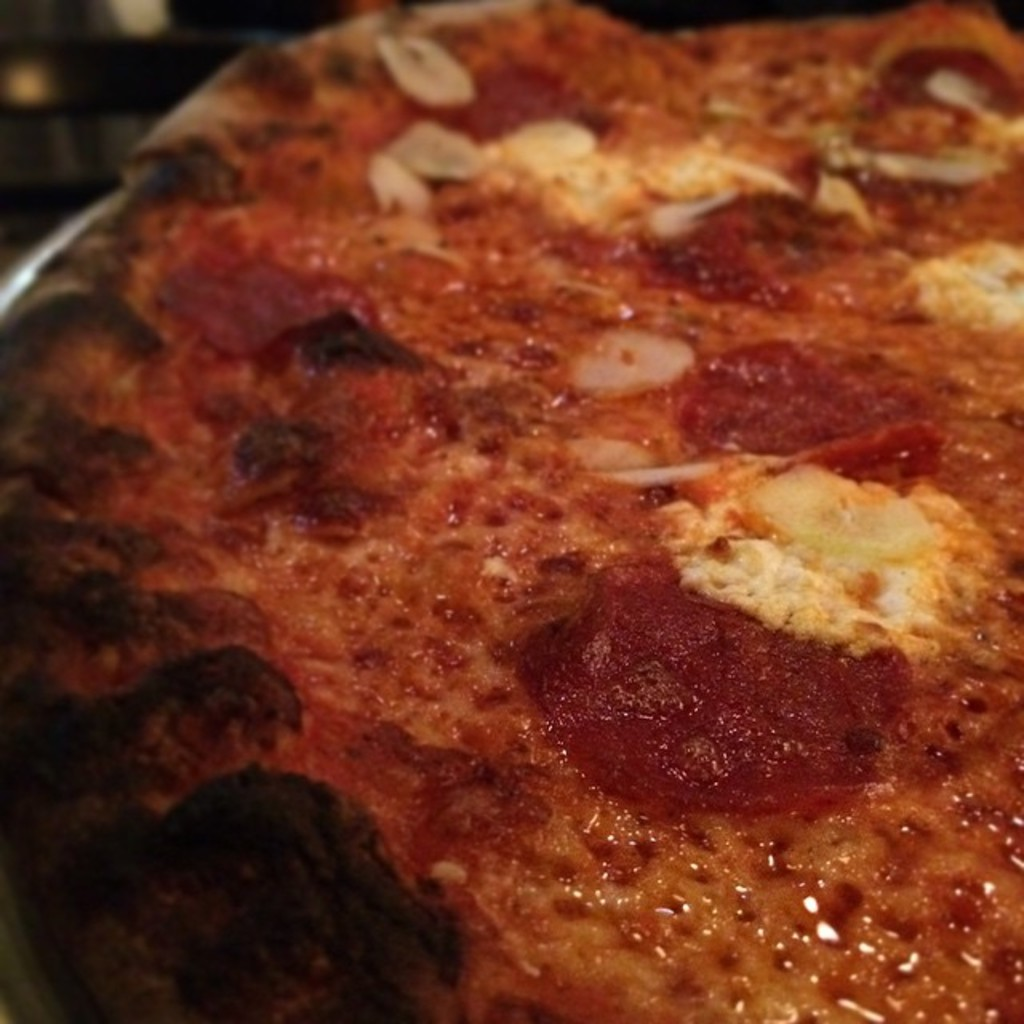Pizza: (16, 11, 1024, 1011)
